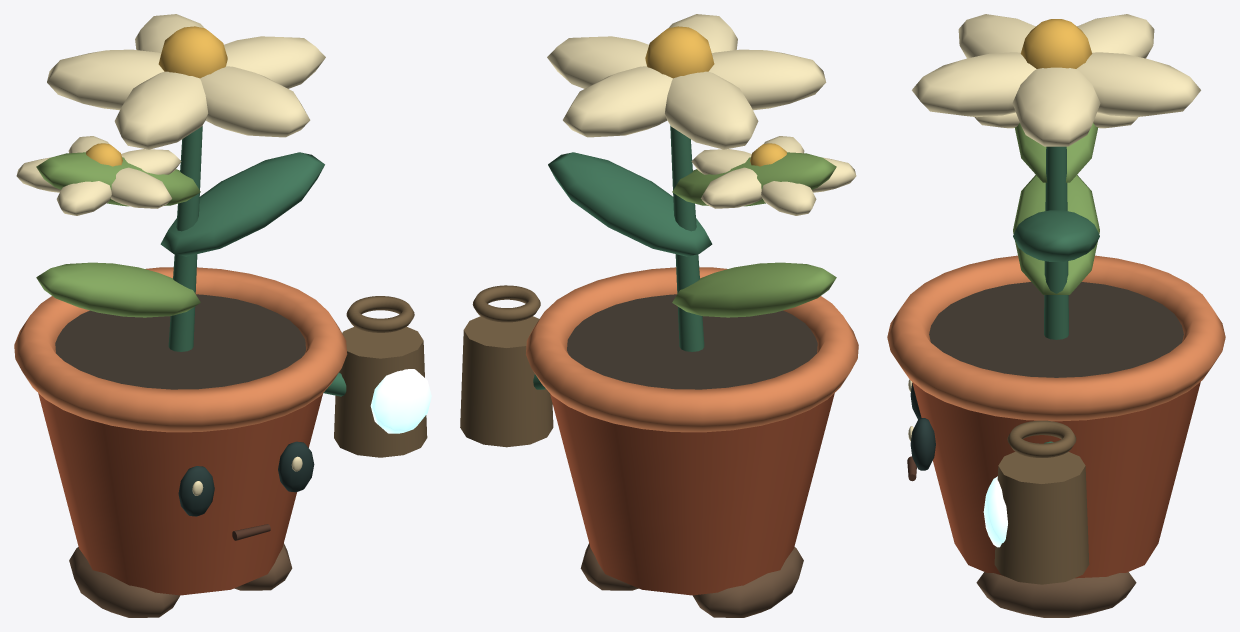
Rendered from petit_jasmin.glb.
3 views of the same model, side by side, from view 1: azimuth 30°, elevation 25°; view 2: azimuth 150°, elevation 25°; view 3: azimuth 270°, elevation 25° (orthographic).
Visible parts, largest first — view 1: _MeshInstance3D_2, _MeshInstance3D_3, _MeshInstance3D_4, _MeshInstance3D_14, _MeshInstance3D_29, _MeshInstance3D_13, _MeshInstance3D_17, _MeshInstance3D_18, _MeshInstance3D_19, _MeshInstance3D_16, _MeshInstance3D_12, FootL (+13 smaller); view 2: _MeshInstance3D_2, _MeshInstance3D_3, _MeshInstance3D_4, _MeshInstance3D_29, _MeshInstance3D_14, _MeshInstance3D_13, _MeshInstance3D_20, _MeshInstance3D_19, _MeshInstance3D_18, _MeshInstance3D_16, _MeshInstance3D_12, FootL (+10 smaller); view 3: _MeshInstance3D_2, _MeshInstance3D_3, _MeshInstance3D_4, _MeshInstance3D_29, _MeshInstance3D_17, _MeshInstance3D_20, _MeshInstance3D_16, FootR, _MeshInstance3D_13, _MeshInstance3D_14, _MeshInstance3D_12, _MeshInstance3D_21 (+8 smaller).
Boxes of the visible parts, <box> form: _MeshInstance3D_2: <box>38,393,322,595</box>; _MeshInstance3D_3: <box>14,267,347,432</box>; _MeshInstance3D_4: <box>55,294,305,389</box>; _MeshInstance3D_14: <box>160,152,324,256</box>; _MeshInstance3D_29: <box>334,326,427,457</box>; _MeshInstance3D_13: <box>36,262,200,317</box>; _MeshInstance3D_17: <box>200,66,310,137</box>; _MeshInstance3D_18: <box>114,71,208,149</box>; _MeshInstance3D_19: <box>47,49,164,110</box>; _MeshInstance3D_16: <box>224,36,325,88</box>; _MeshInstance3D_12: <box>168,126,202,351</box>; FootL: <box>69,547,180,617</box>; _MeshInstance3D_2: <box>550,393,834,595</box>; _MeshInstance3D_3: <box>526,267,858,432</box>; _MeshInstance3D_4: <box>567,294,817,389</box>; _MeshInstance3D_29: <box>460,316,553,447</box>; _MeshInstance3D_14: <box>548,152,712,256</box>; _MeshInstance3D_13: <box>672,262,836,317</box>; _MeshInstance3D_20: <box>563,66,672,137</box>; _MeshInstance3D_19: <box>665,71,758,149</box>; _MeshInstance3D_18: <box>708,49,826,110</box>; _MeshInstance3D_16: <box>547,36,648,88</box>; _MeshInstance3D_12: <box>670,125,704,351</box>; FootL: <box>692,547,803,617</box>; _MeshInstance3D_2: <box>912,382,1200,578</box>; _MeshInstance3D_3: <box>887,255,1225,421</box>; _MeshInstance3D_4: <box>929,282,1183,377</box>; _MeshInstance3D_29: <box>994,452,1089,584</box>; _MeshInstance3D_17: <box>912,52,1036,117</box>; _MeshInstance3D_20: <box>1076,52,1200,117</box>; _MeshInstance3D_16: <box>1012,67,1100,146</box>; FootR: <box>976,572,1136,617</box>; _MeshInstance3D_13: <box>1013,175,1099,294</box>; _MeshInstance3D_14: <box>1013,210,1099,261</box>; _MeshInstance3D_12: <box>1044,146,1068,339</box>; _MeshInstance3D_21: <box>1020,19,1092,68</box>.
Bounding box in the file's own units: 1.22 × 1.73 × 0.93.
